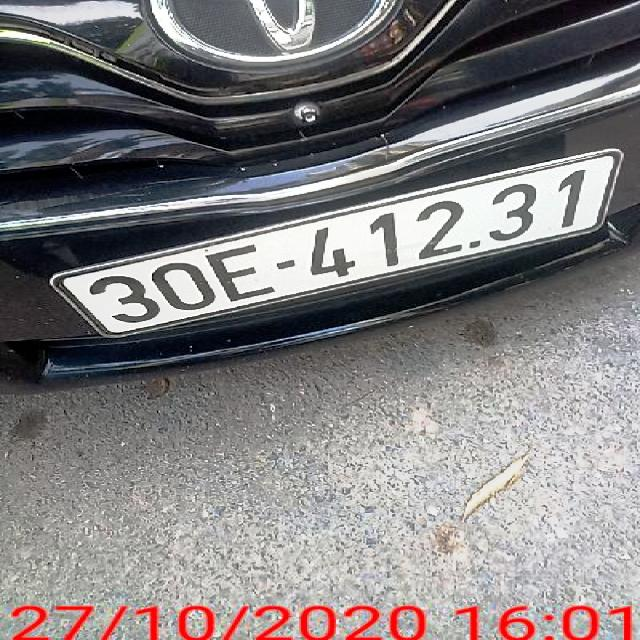license_plate: (59, 152, 618, 337)
